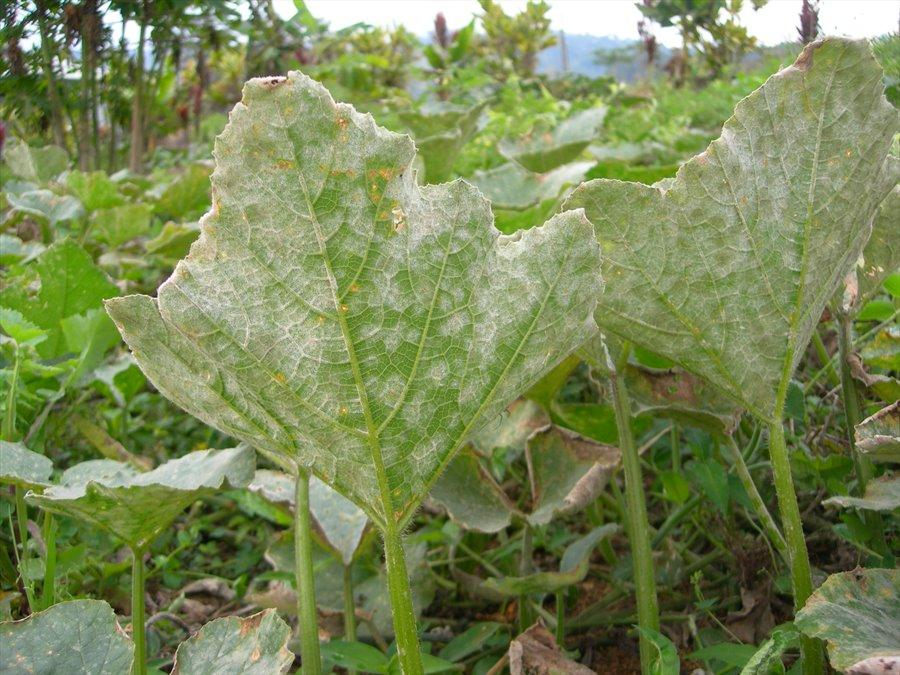Squash Powdery mildew leaf: (96, 65, 616, 519), (586, 36, 900, 414)
